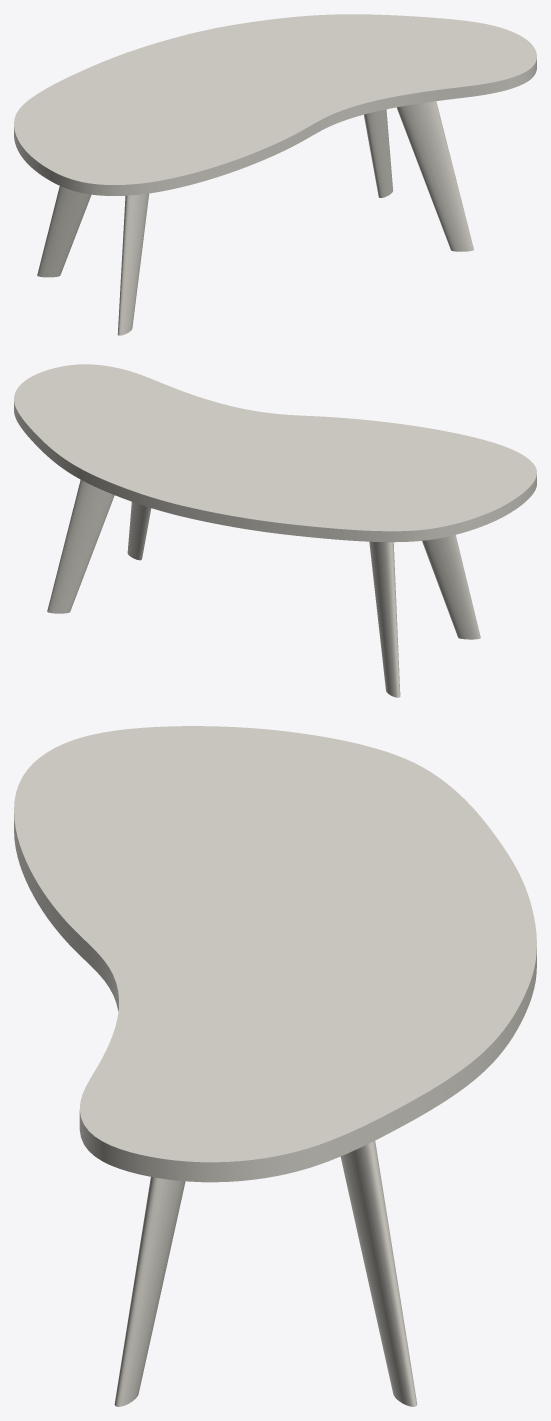
Rendered from pale_leaf1_standard_ferdinantwalnut.glb.
3 views of the same model, one above another, from view 1: azimuth 30°, elevation 25°; view 2: azimuth 150°, elevation 25°; view 3: azimuth 270°, elevation 25° (orthographic). The views are drawn at different scales.
Visible parts, largest first — view 1: standard_leaf1, ferdinandwalnut; view 2: standard_leaf1, ferdinandwalnut; view 3: standard_leaf1, ferdinandwalnut.
Boxes of the visible parts, x1,y1,x2,y2 form: standard_leaf1: (14,14,536,195); ferdinandwalnut: (37,101,473,335); standard_leaf1: (14,364,536,542); ferdinandwalnut: (47,480,480,697); standard_leaf1: (14,726,536,1182); ferdinandwalnut: (114,1141,417,1406).
Bounding box in the file's own units: 7.5 × 2.51 × 3.8.
1 material, 1 textured.
